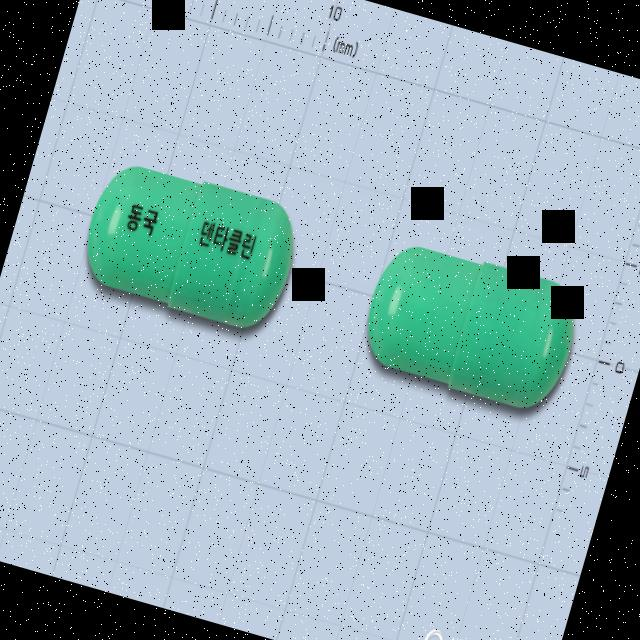Dentacline Cap: (72, 150, 309, 338)
